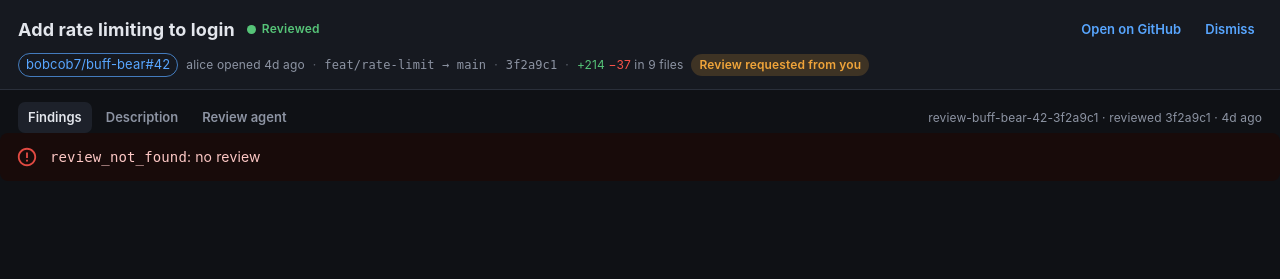
Test case: ReportView › shows ws's error and keeps the Review agent tab
Expected: the message reads "review_not_found: no review", [0, 133, 1279, 181]
Click the tab "Review agent" at (244, 118), box [192, 102, 296, 133]
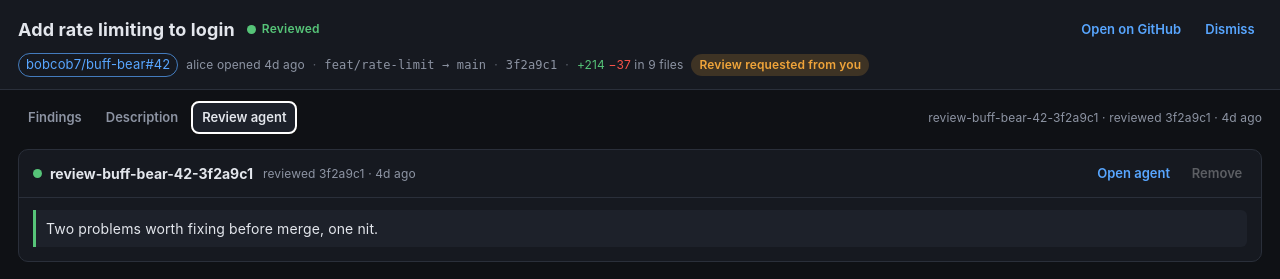
Expected: the button "Open agent" is shown, [1092, 158, 1175, 189]
